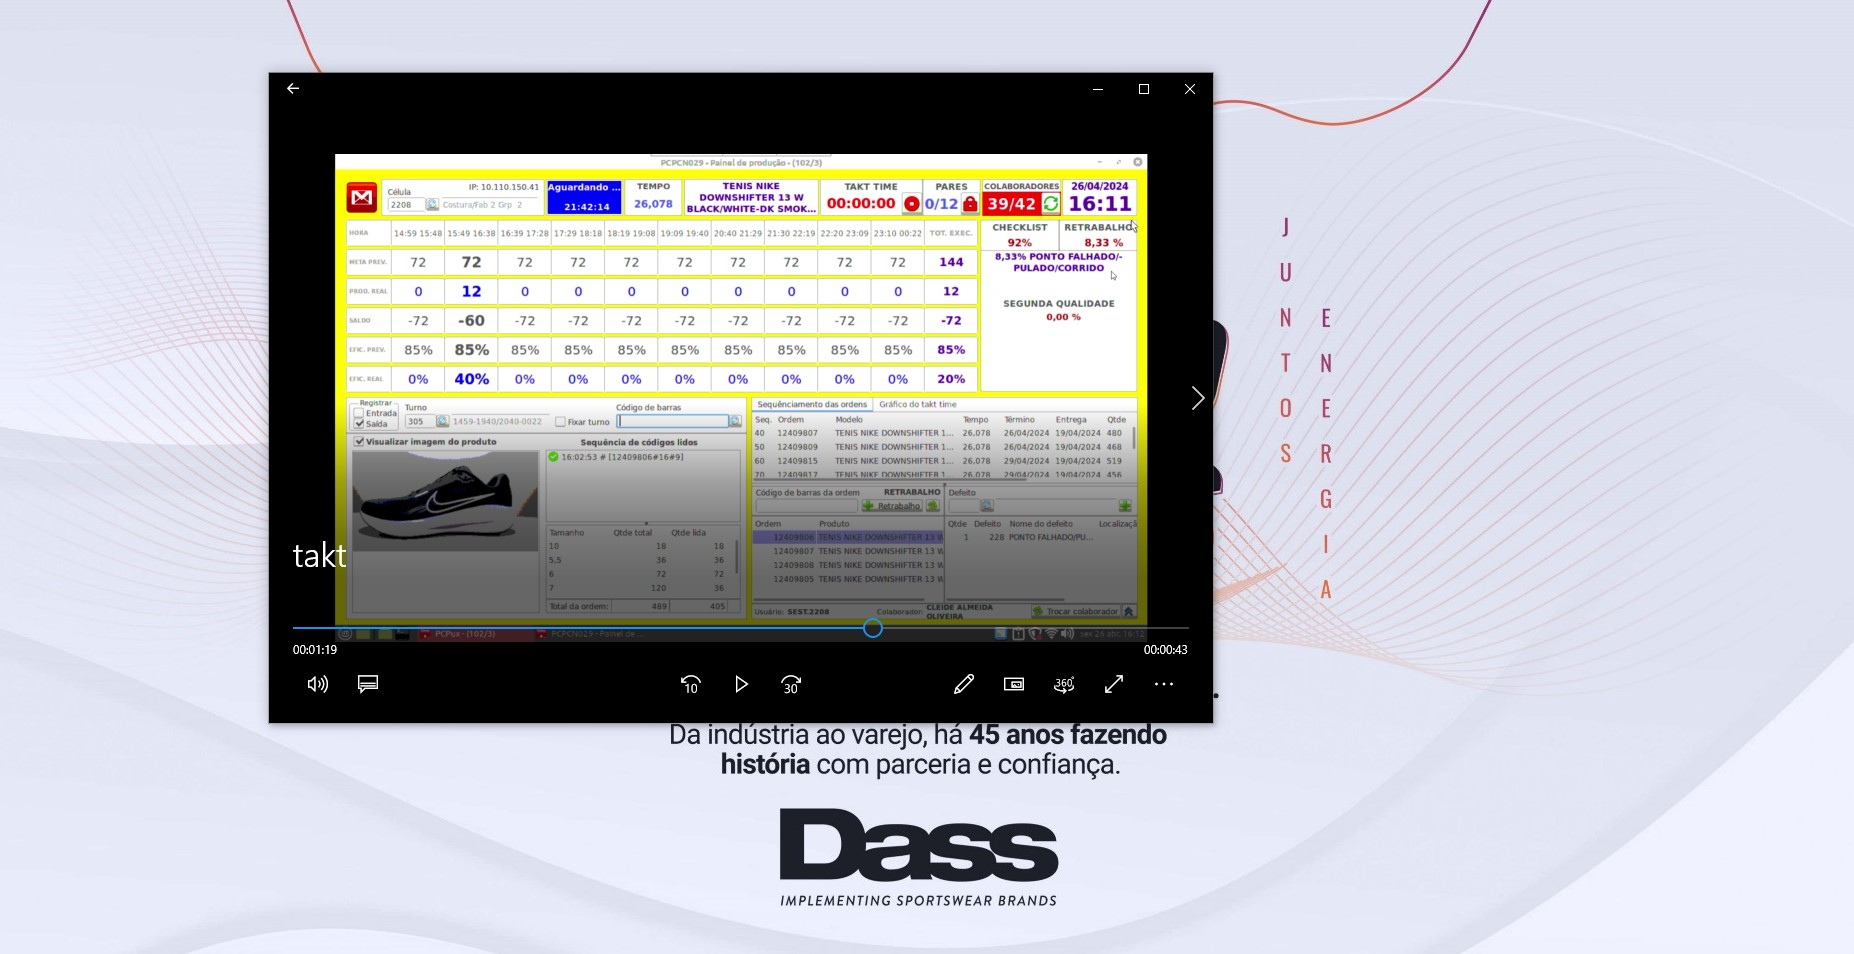takt_time: (824, 179, 901, 211)
